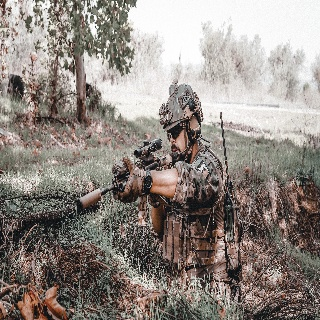rifle: (77, 136, 176, 215)
